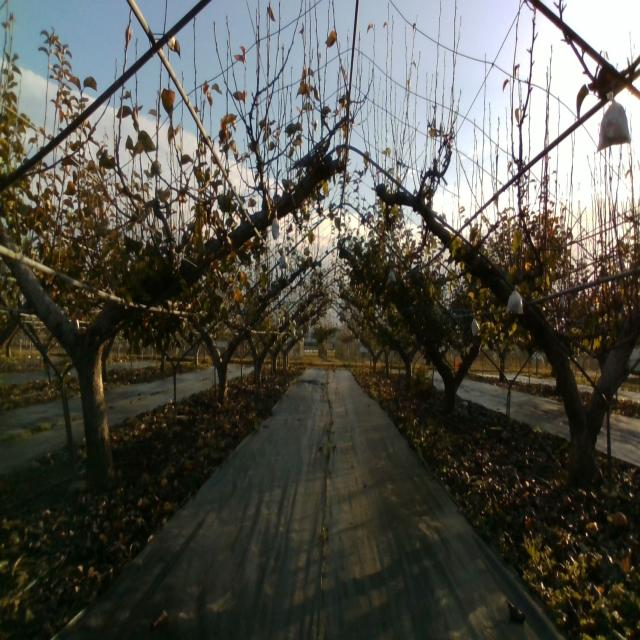pearbags: (596, 91, 631, 151), (506, 284, 524, 316)
